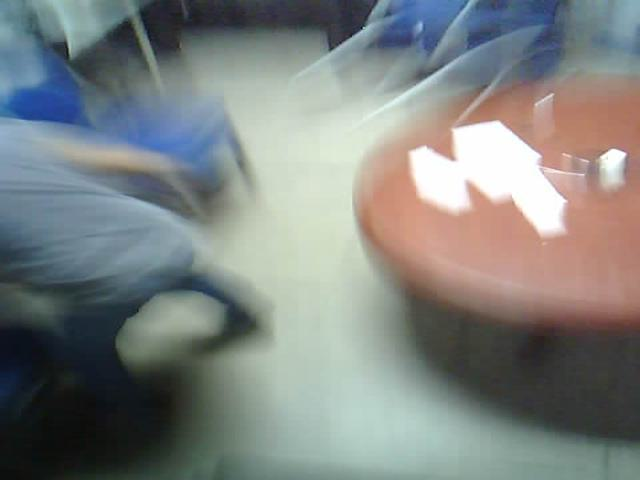person: (0, 92, 303, 471), (336, 0, 585, 108)
